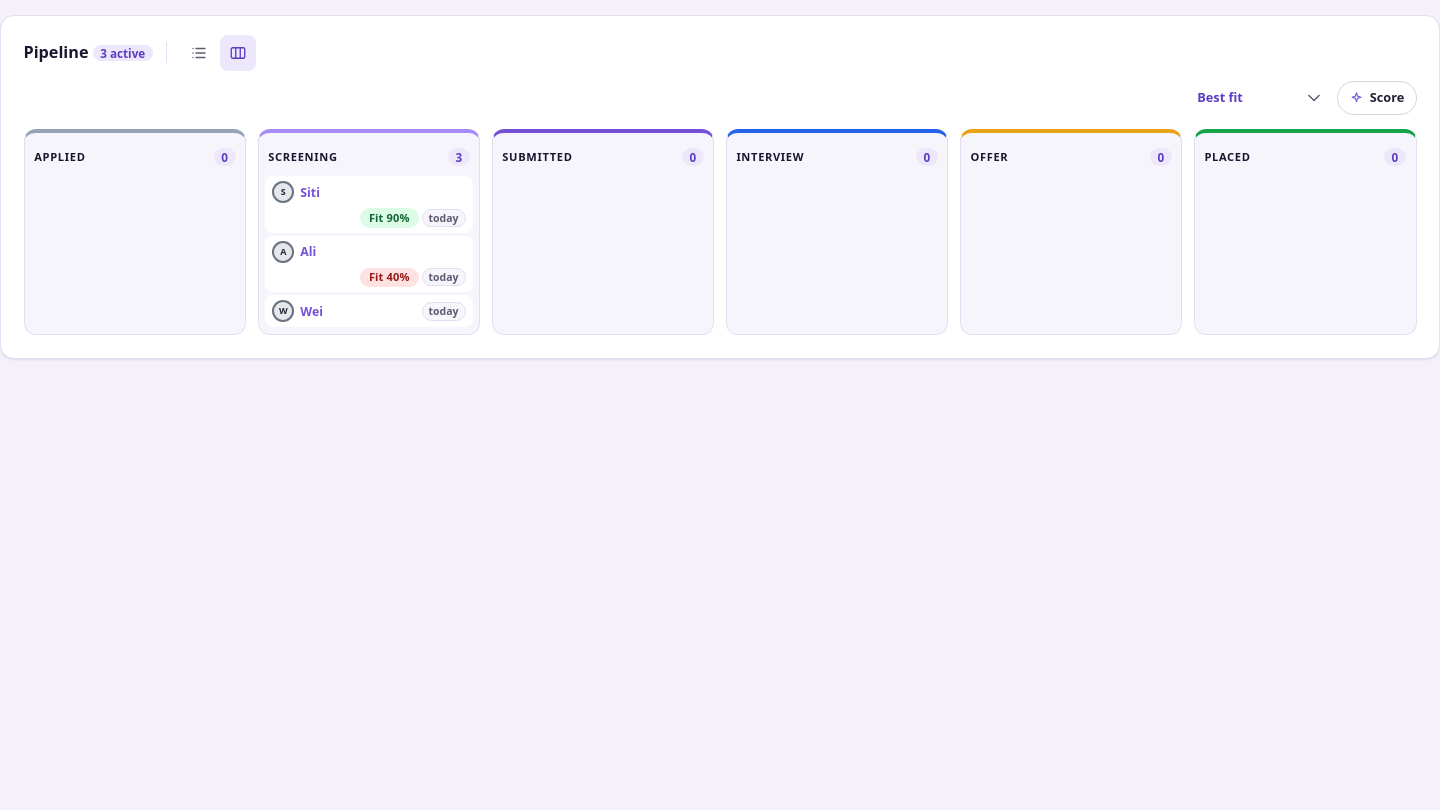
Test: fit on a job's board › shows each card's score, puts the best fits first, and scores everyone
Earlier steps of the test are not shown.
The Steps view follows it too.
Click the button named "Steps" at (199, 53), box [181, 35, 217, 71]
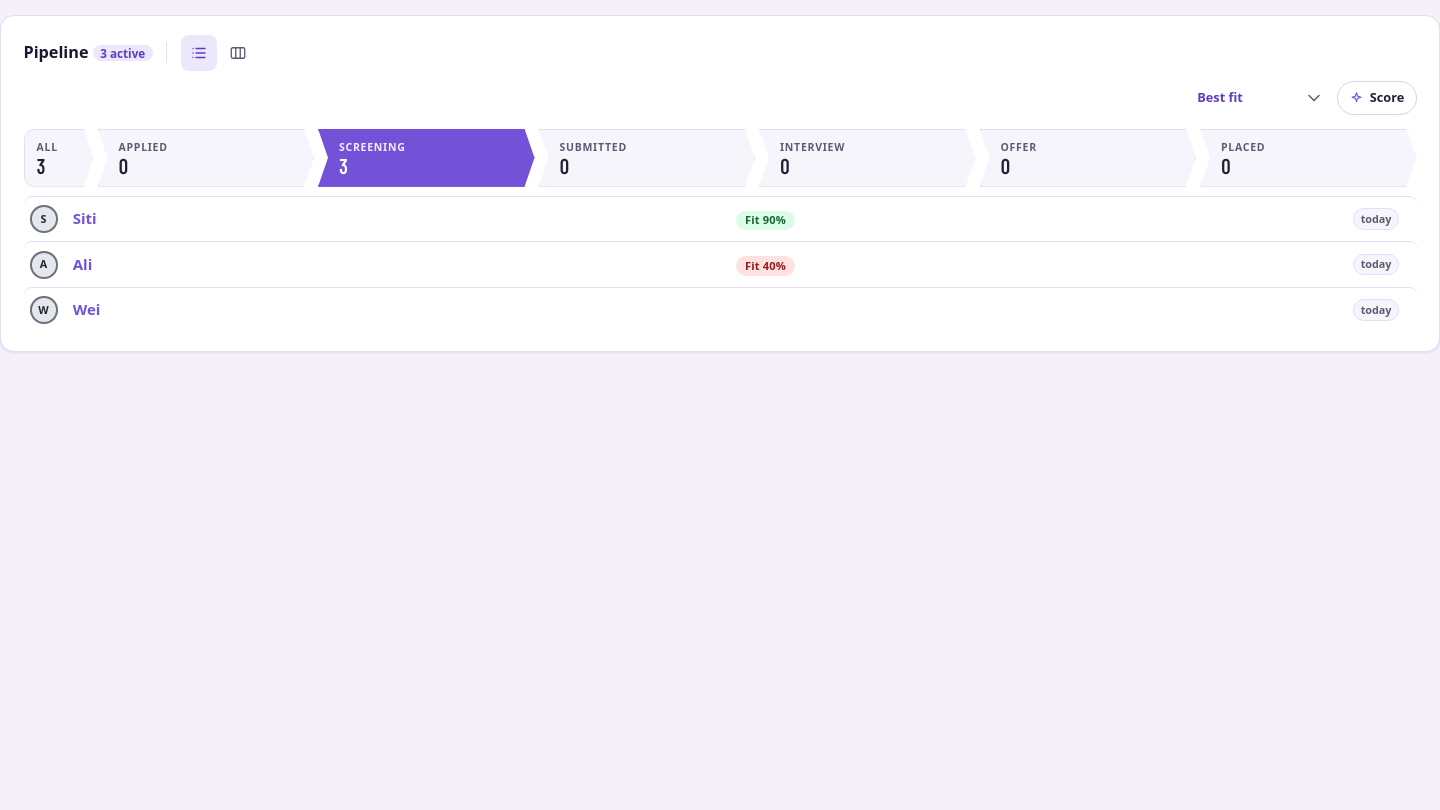
Click the tab "All 3" at (58, 158), box [24, 129, 94, 187]
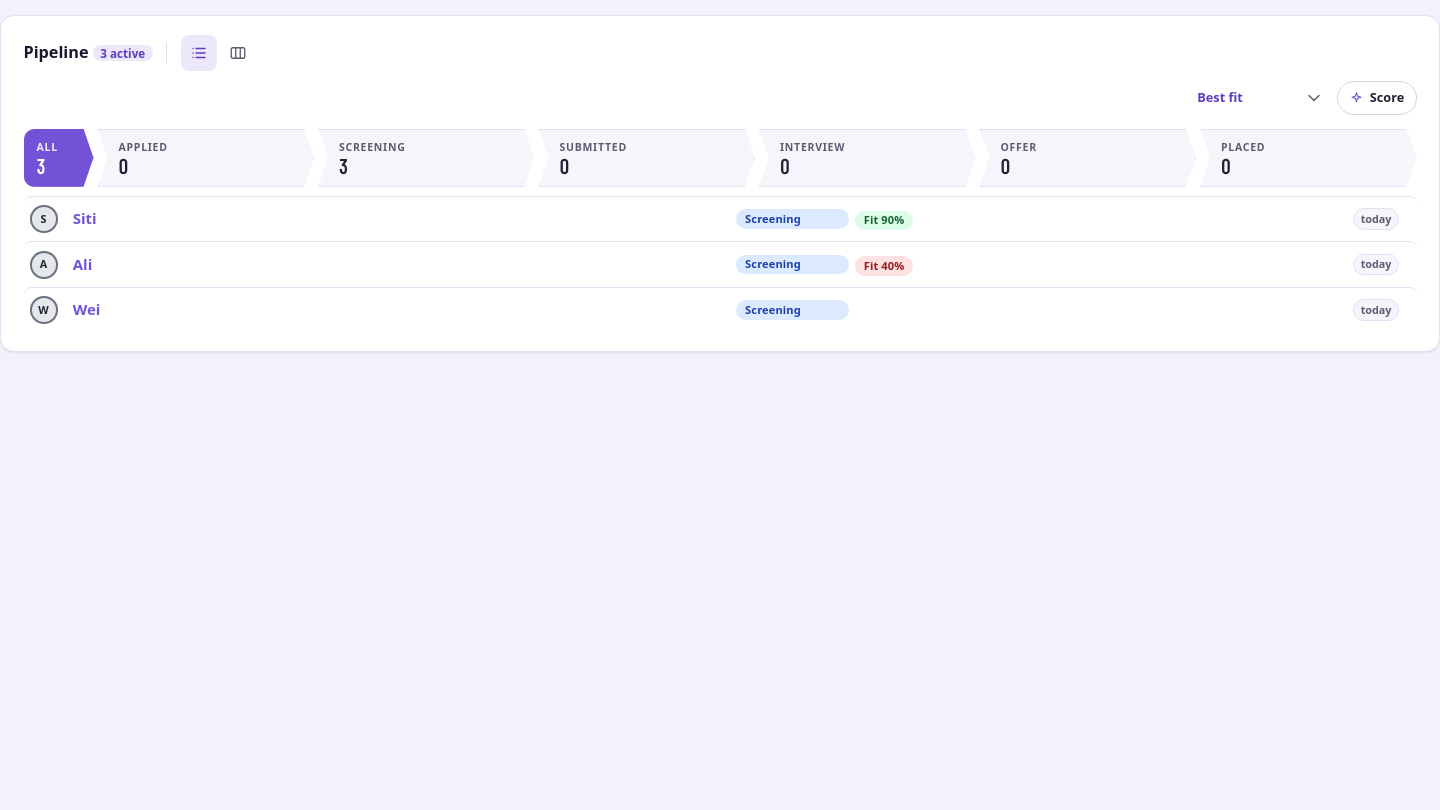
expect the links read "Siti", "Ali", "Wei", in this order: met, box [73, 208, 97, 228]; [73, 254, 92, 274]; [73, 299, 100, 319]
Click the button named "Board" at (238, 53), box [220, 35, 256, 71]
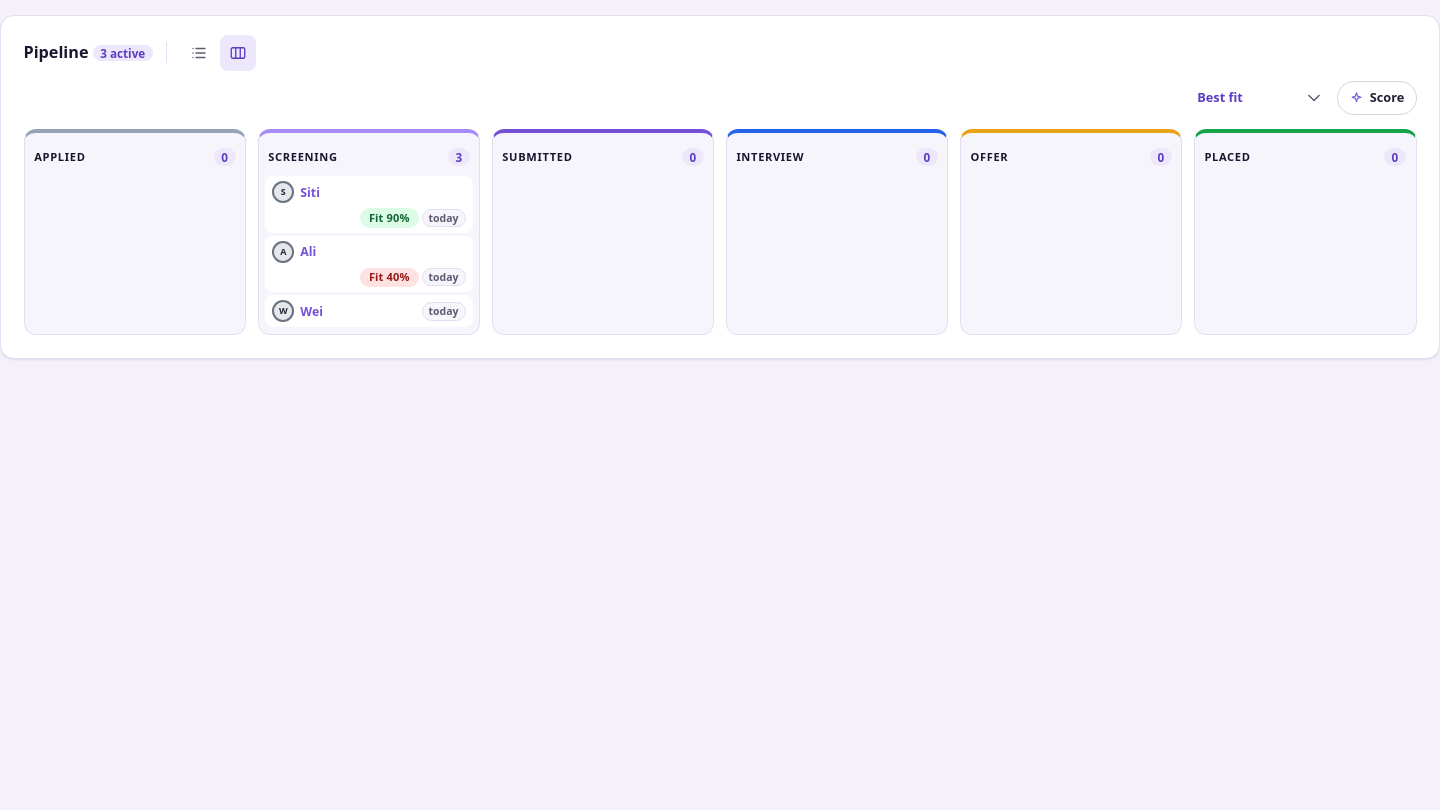
Click the button with aria-label "Fit of Siti: why?" at (389, 218), box [360, 207, 419, 228]
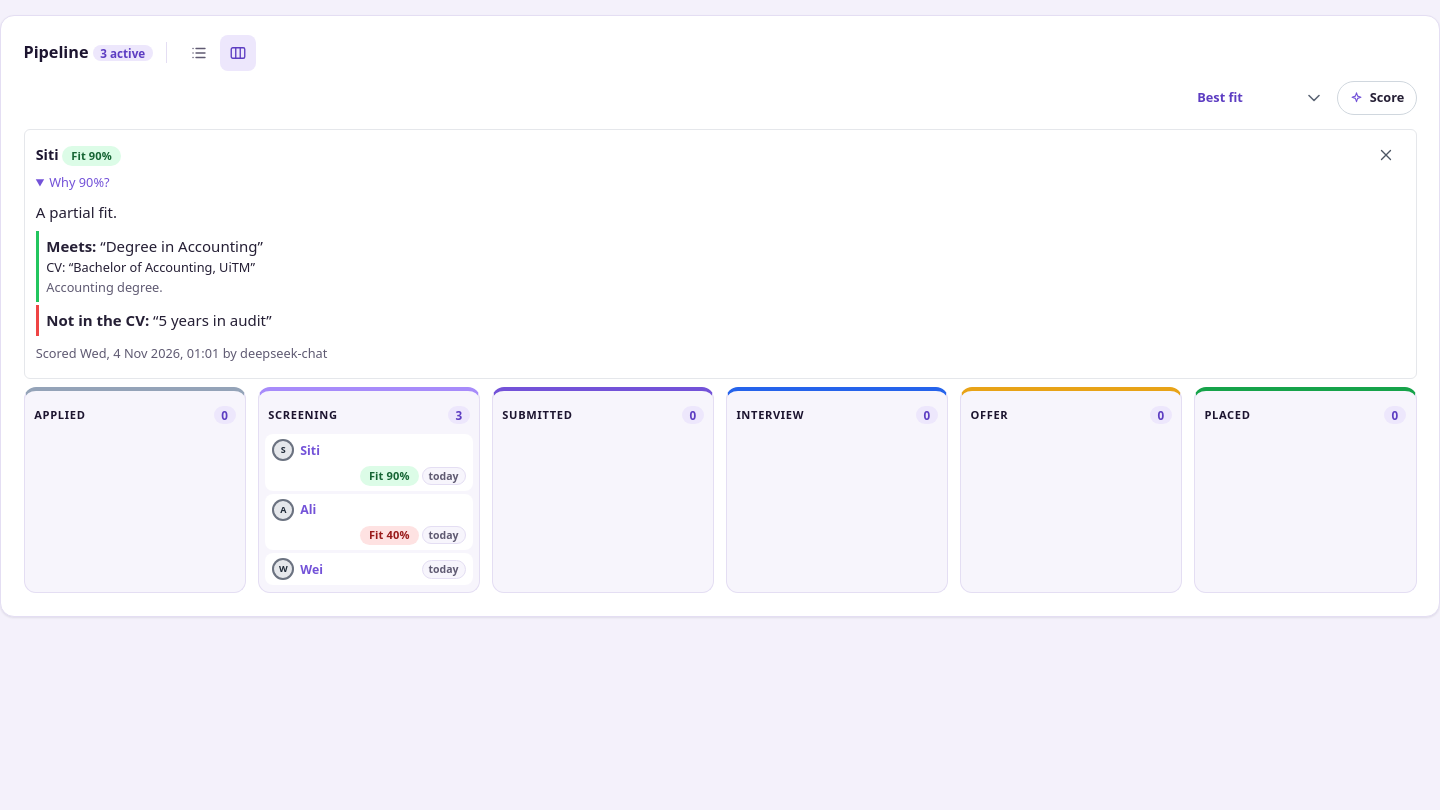
expect the heading "Why 90%?" is shown: met, box [49, 173, 110, 191]
expect the list item "Degree in Accounting" is shown: met, box [106, 236, 258, 256]
Click the button named "Close" at (1386, 155), box [1368, 137, 1404, 173]
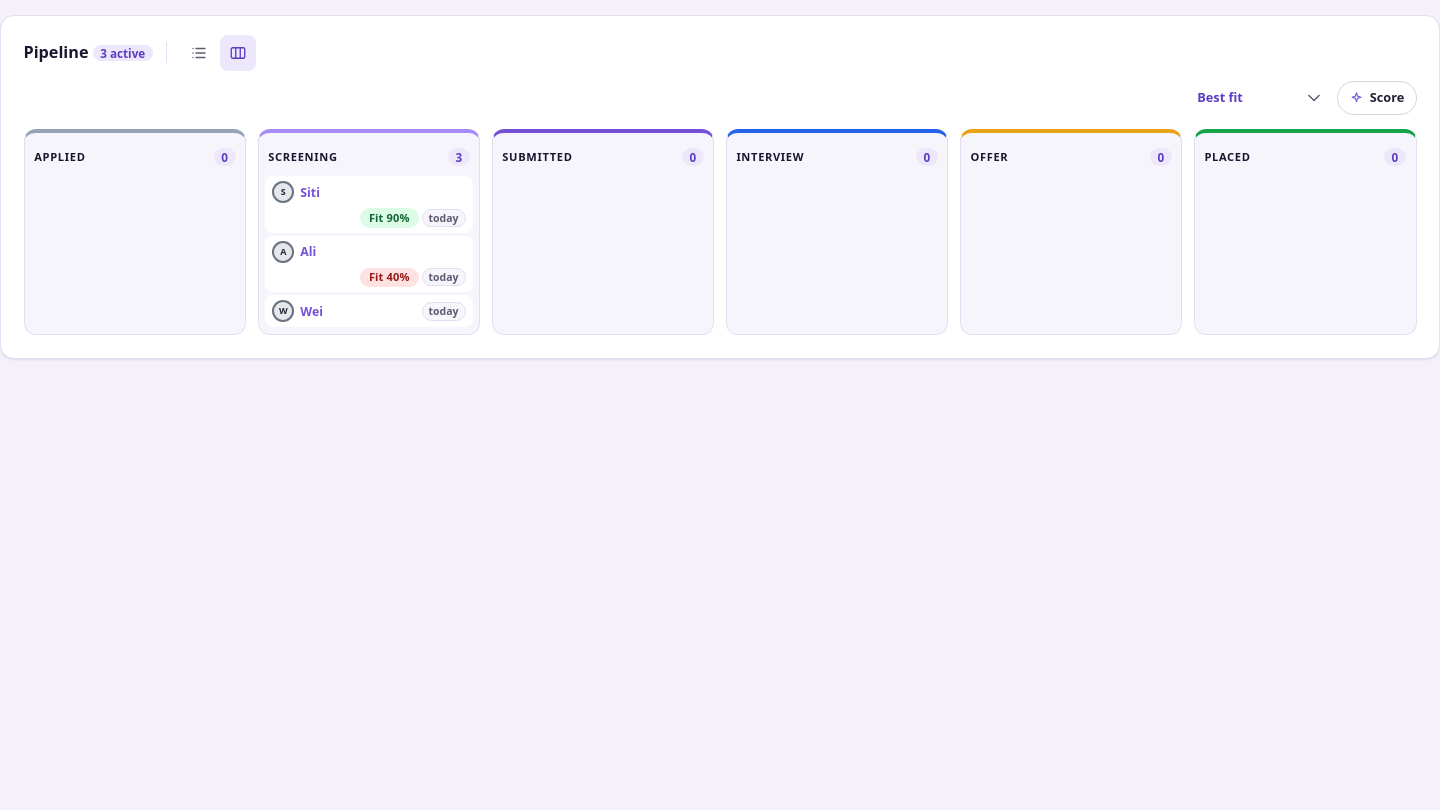
Click the button "Score" at (1377, 98), box [1337, 81, 1416, 115]
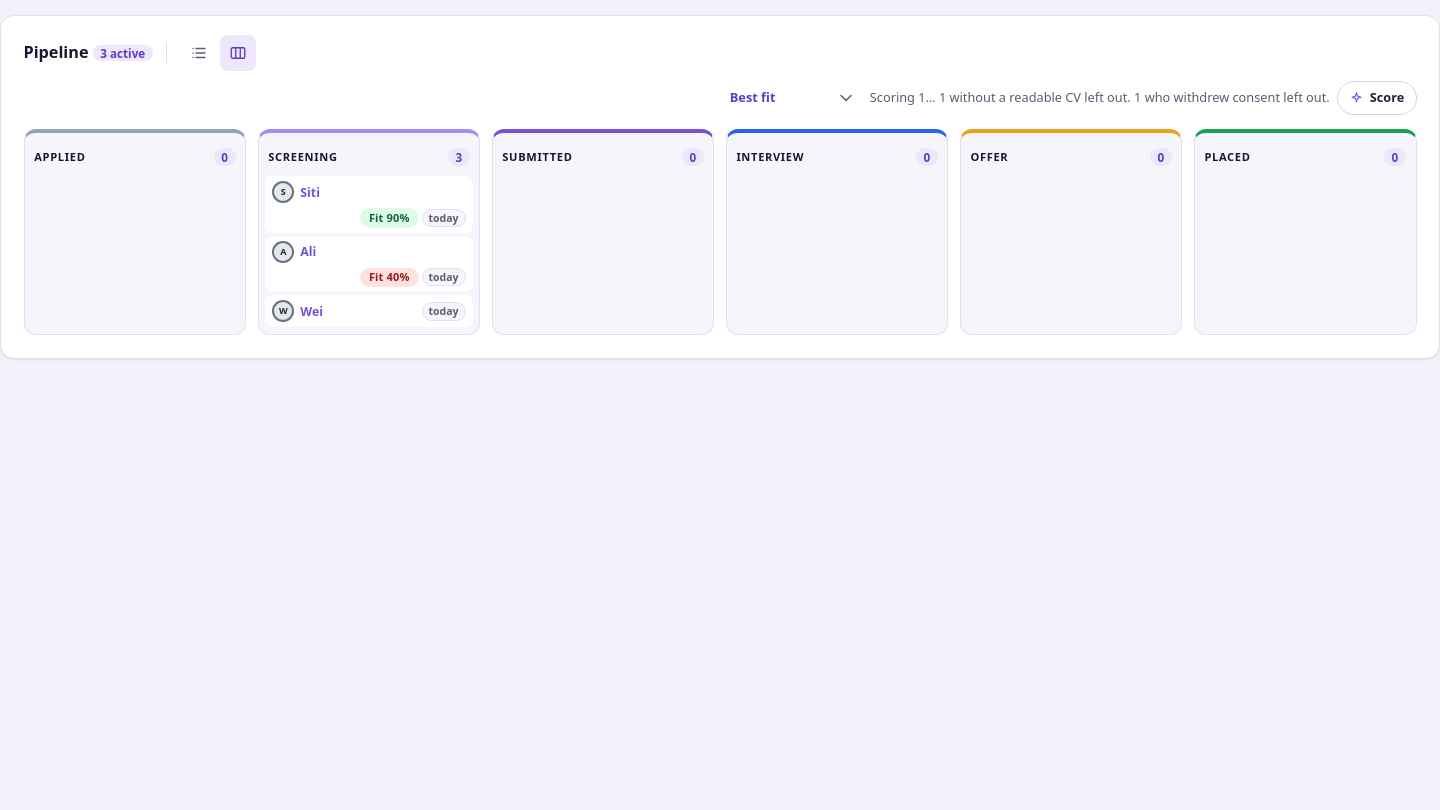
expect the text "Scoring 1… 1 without a readable CV left out. 1 who withdrew consent left out." is shown: met, box [870, 88, 1330, 108]
